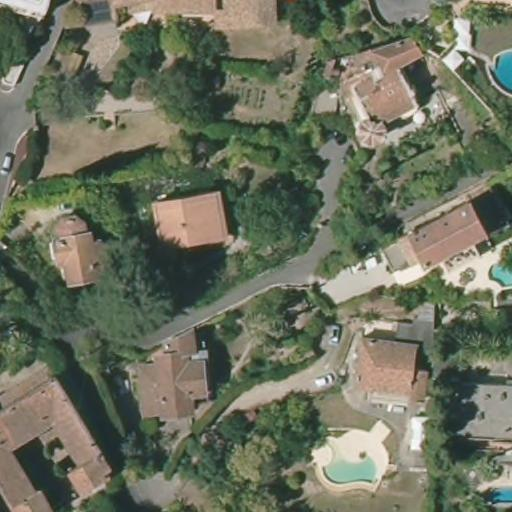pool: (320, 447, 373, 486), (487, 43, 511, 99), (487, 250, 511, 288), (484, 478, 511, 509)
